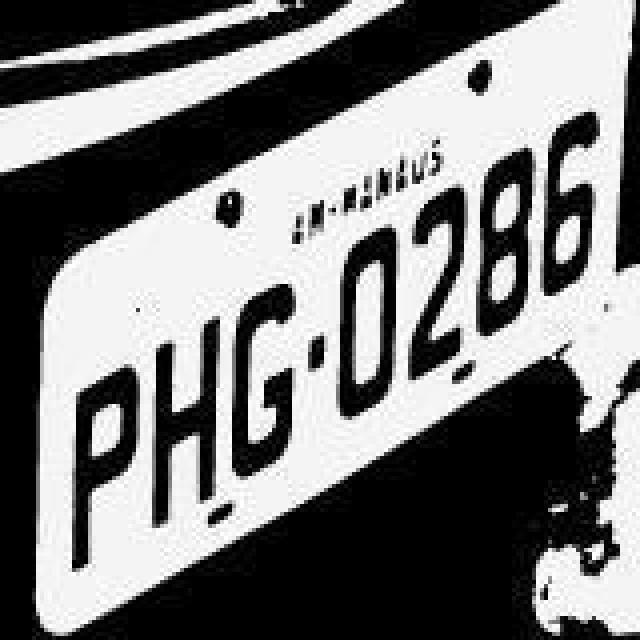2: (400, 184, 472, 384)
6: (538, 88, 606, 304)
8: (472, 148, 536, 332)
G: (230, 286, 306, 482)
H: (146, 318, 230, 530)
O: (332, 226, 404, 422)
P: (70, 366, 146, 570)
